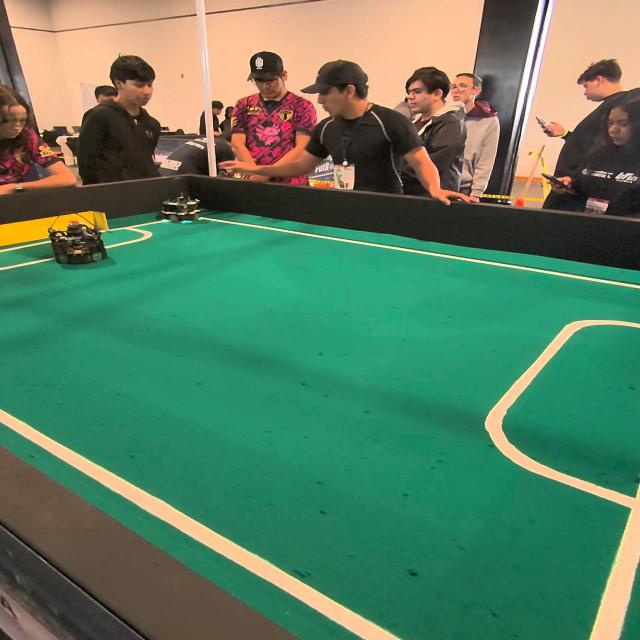Robot: (42, 207, 111, 266), (155, 177, 203, 234)
